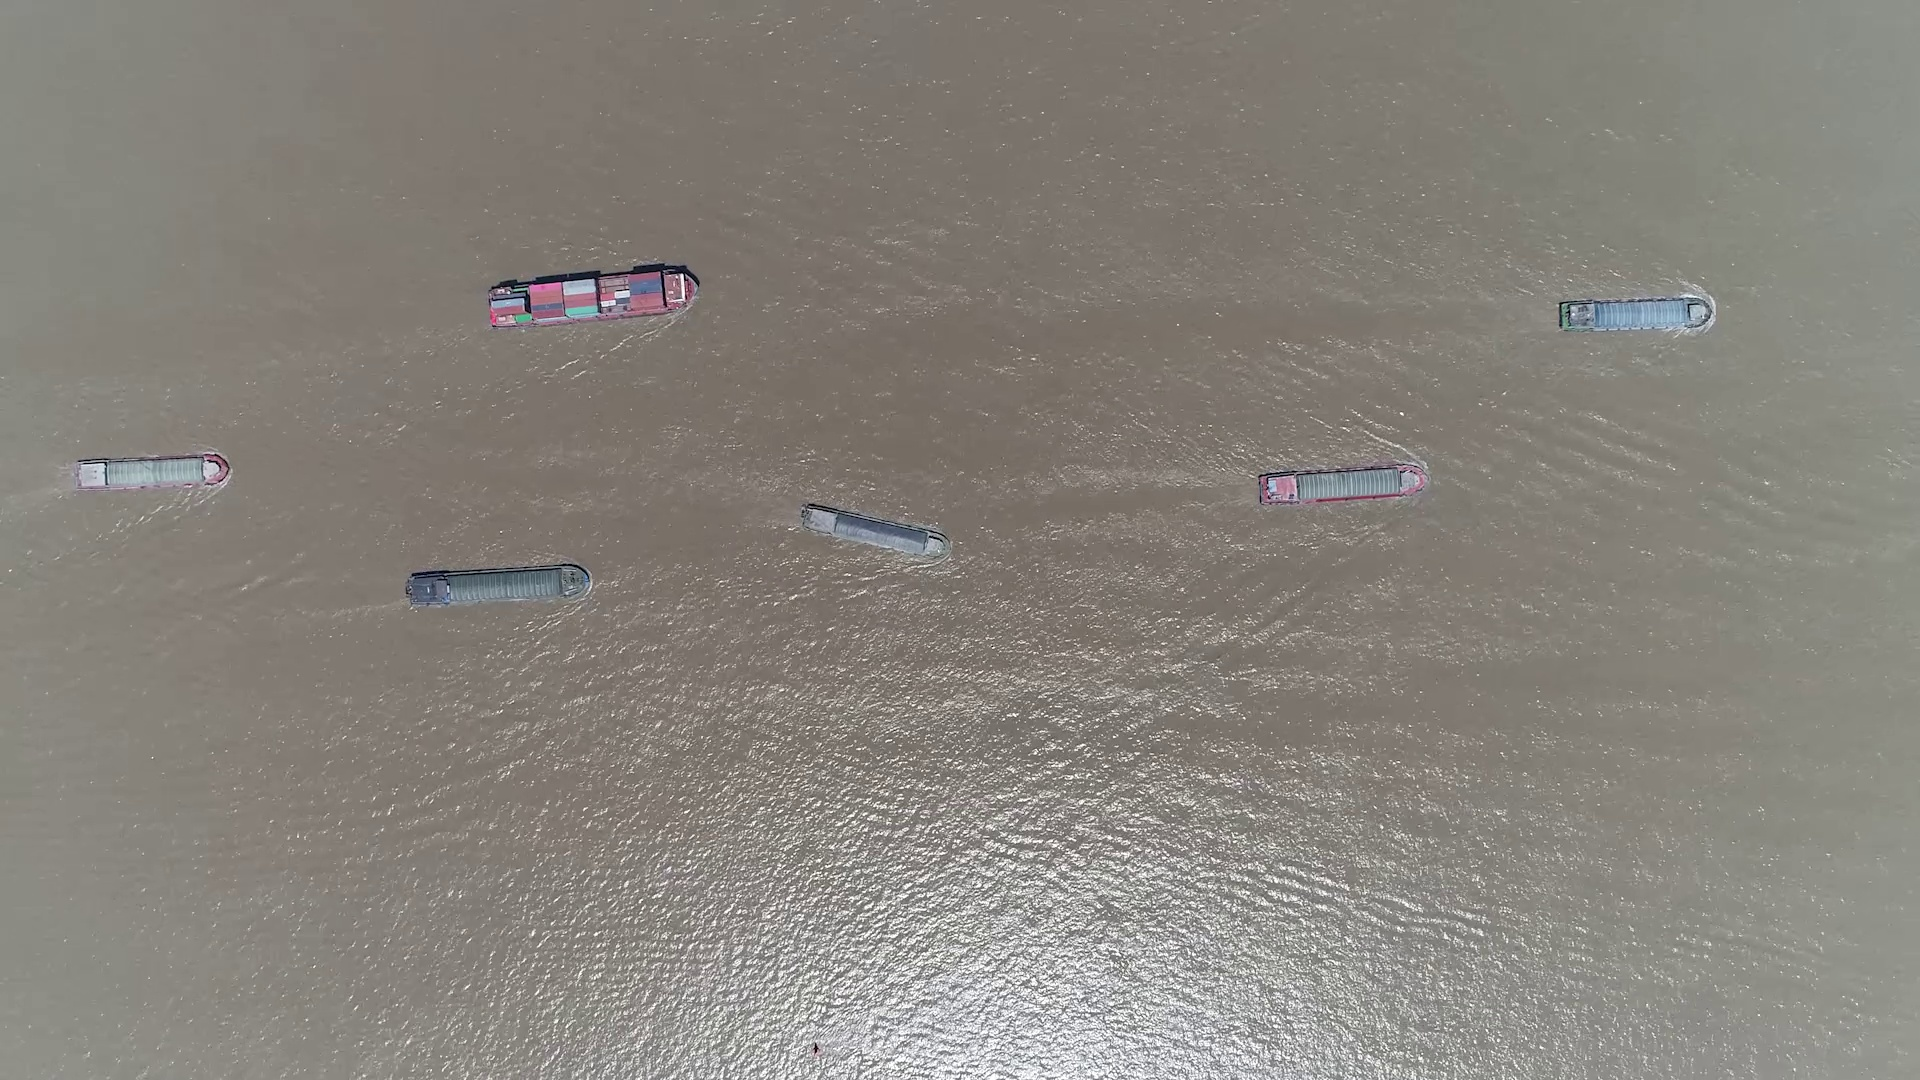ship: (487, 268, 698, 328), (796, 504, 949, 559), (406, 564, 589, 608), (1261, 464, 1428, 505), (1559, 299, 1714, 334), (74, 456, 229, 491)
